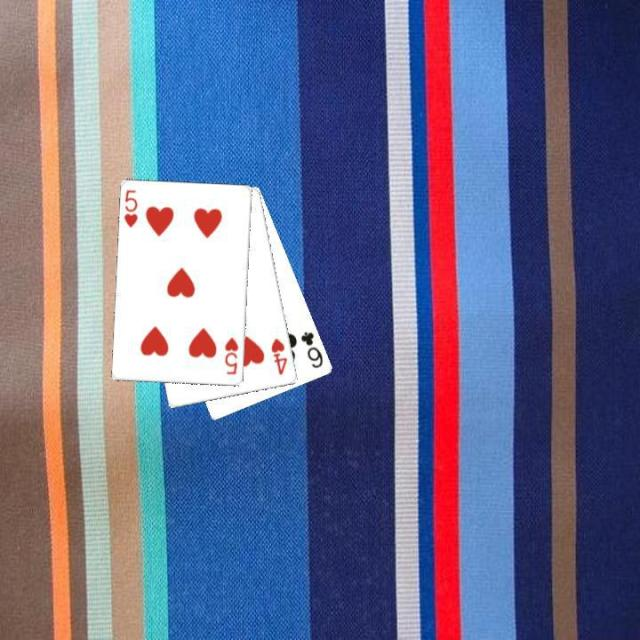4H: (268, 334, 290, 377)
5H: (221, 333, 240, 377), (121, 186, 139, 229)
6C: (297, 328, 325, 370)
